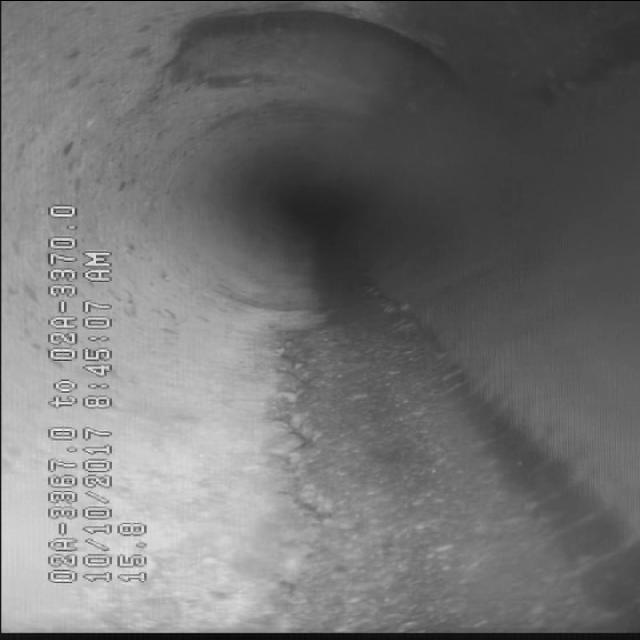Fracture: (236, 368, 342, 582)
